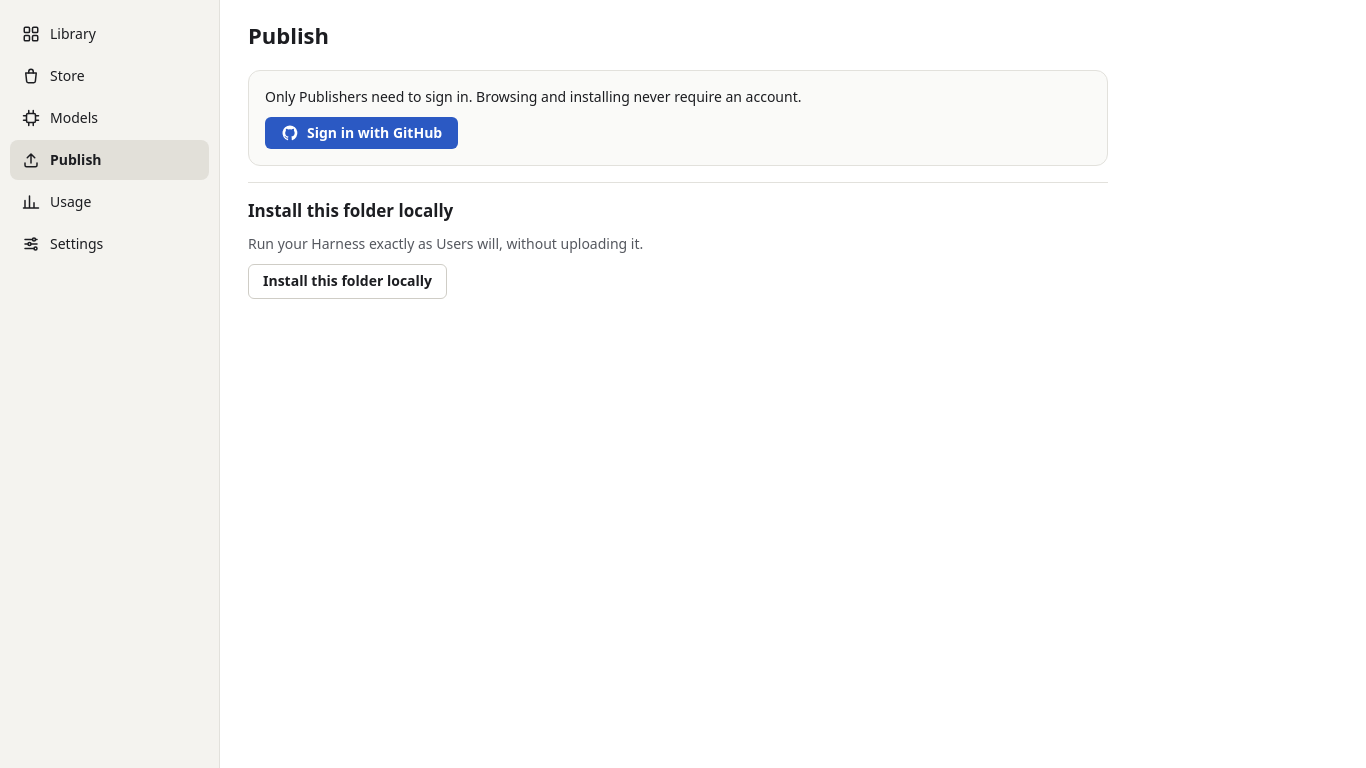
Test case: Publish screen sign-in › Sign in shows the GitHub identity: avatar, login, name and the Harness ID prefix
Click the button "Sign in with GitHub": point(362, 133) [265,117,458,150]
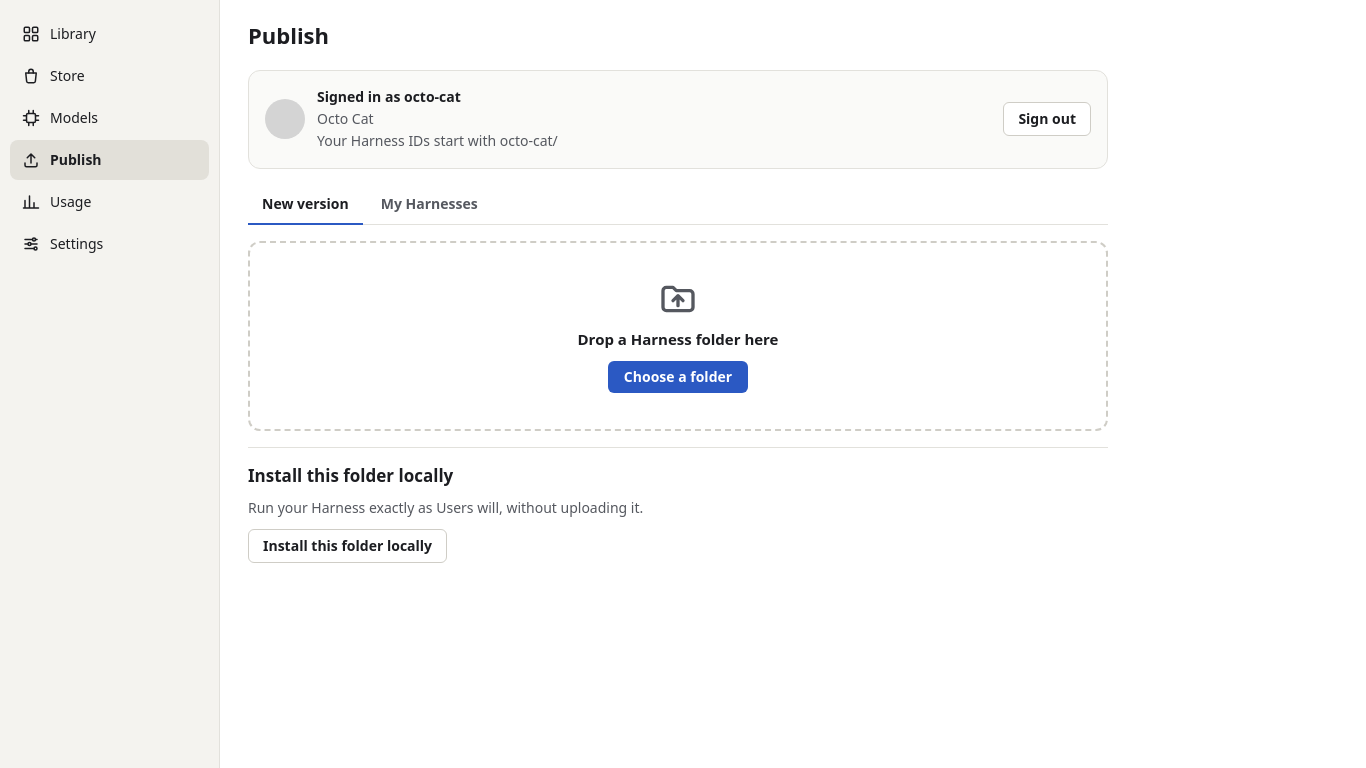
Expected: the text "Signed in as octo-cat" is shown, [317,87,461,106]
Expected: the text "Octo Cat" is shown, [317,109,374,128]
Expected: the text "Your Harness IDs start with octo-cat/" is shown, [317,132,558,150]
